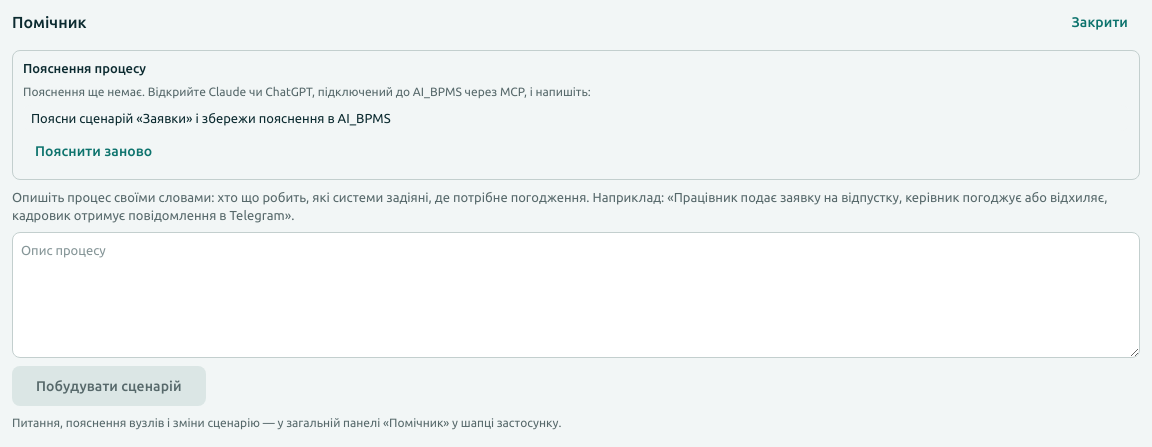
Test: AssistantPanelComponent › модель не вибрана (409 при побудові з опису) — замість «Описати процес» підказка про MCP із назвою сценарію
This screenshot has width=1152, height=447.
Type "працівник подає заявку" into the text box with test id "describe-input" at (576, 295), box [12,232,1140,358]
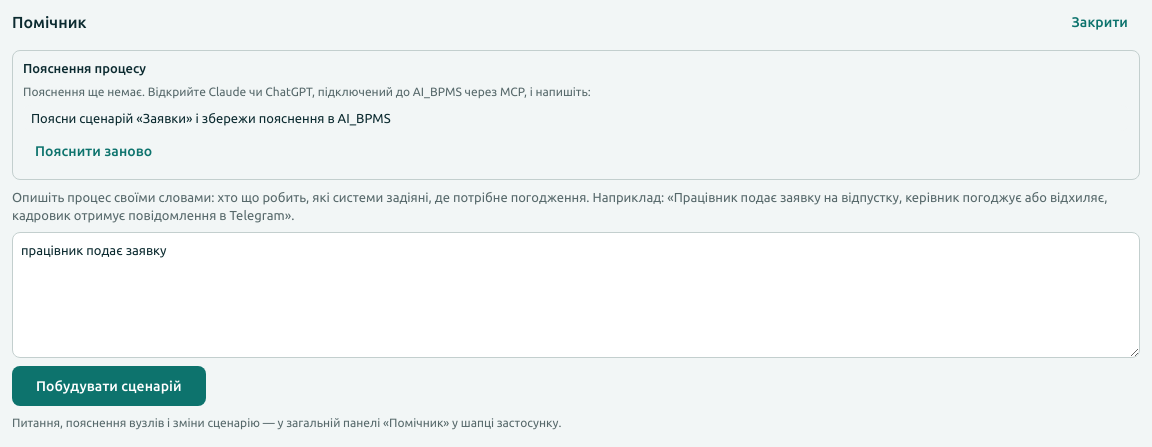
Click the button with test id "describe-run" at (109, 386), box [12,366,206,406]
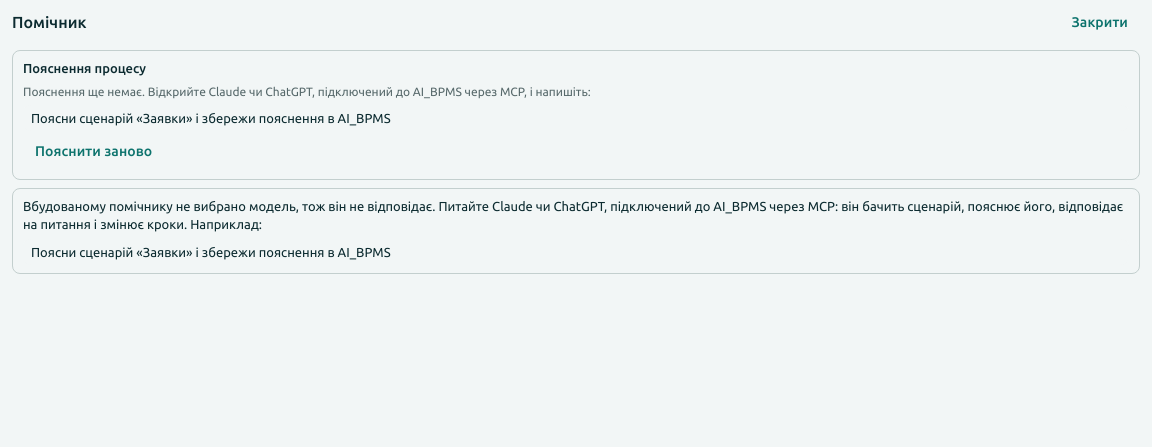
expect the text "Поясни сценарій «Заявки» і збережи пояснення в AI_BPMS" below "Пояснення процесу" is shown: met, box [31,111,390,125]
expect the element with test id "describe-process" is gone: met
expect the element with test id "assistant-mcp" shows "через MCP": met, box [23,199,1123,231]
